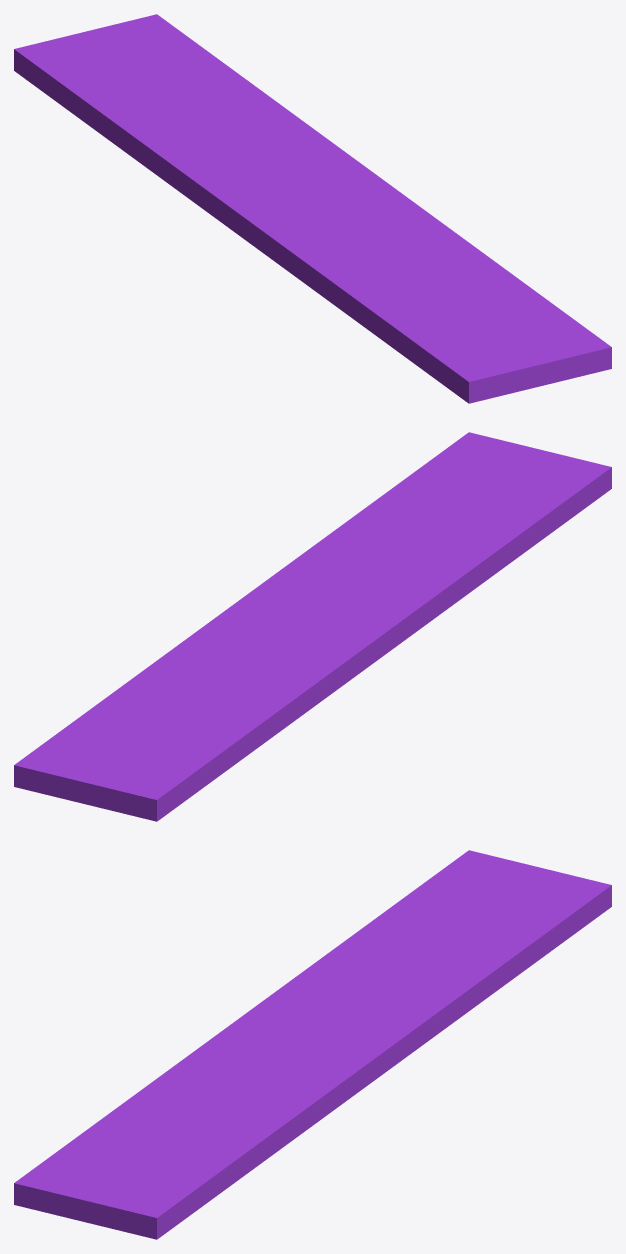
Rendered from StairsStep_61_chunks.fbx.
The picture shows the model from 3 angles, top to bottom: view 1: azimuth 30°, elevation 25°; view 2: azimuth 150°, elevation 25°; view 3: azimuth 330°, elevation 25°; orthographic projection.
Visible parts, largest first — view 1: StairsStep_61_1, StairsStep_61_11, StairsStep_61_9, StairsStep_61_3, StairsStep_61_0, StairsStep_61_4, StairsStep_61_6, StairsStep_61_7, StairsStep_61_12; view 2: StairsStep_61_1, StairsStep_61_11, StairsStep_61_9, StairsStep_61_3, StairsStep_61_0, StairsStep_61_4, StairsStep_61_6, StairsStep_61_7, StairsStep_61_12; view 3: StairsStep_61_1, StairsStep_61_11, StairsStep_61_0, StairsStep_61_3, StairsStep_61_9, StairsStep_61_4, StairsStep_61_7, StairsStep_61_6, StairsStep_61_8, StairsStep_61_12.
Boxes of the visible parts, x1,y1,x2,y2 form: StairsStep_61_1: (14, 14, 249, 168); StairsStep_61_11: (340, 276, 561, 403); StairsStep_61_9: (216, 197, 376, 309); StairsStep_61_3: (146, 134, 345, 218); StairsStep_61_0: (304, 163, 496, 267); StairsStep_61_4: (227, 82, 360, 171); StairsStep_61_6: (451, 278, 611, 383); StairsStep_61_7: (461, 263, 611, 353); StairsStep_61_12: (369, 235, 449, 284); StairsStep_61_1: (14, 679, 290, 821); StairsStep_61_11: (422, 444, 611, 581); StairsStep_61_9: (317, 554, 483, 672); StairsStep_61_3: (225, 617, 359, 723); StairsStep_61_0: (218, 516, 398, 619); StairsStep_61_4: (107, 616, 242, 696); StairsStep_61_6: (402, 434, 518, 521); StairsStep_61_7: (354, 432, 475, 528); StairsStep_61_12: (362, 522, 440, 576); StairsStep_61_1: (337, 850, 611, 980); StairsStep_61_11: (14, 1089, 203, 1224); StairsStep_61_0: (227, 1030, 408, 1133); StairsStep_61_3: (267, 947, 400, 1033); StairsStep_61_9: (143, 998, 308, 1096); StairsStep_61_4: (383, 953, 518, 1052); StairsStep_61_7: (150, 1121, 285, 1224); StairsStep_61_6: (94, 1128, 223, 1239); StairsStep_61_8: (278, 1053, 404, 1150); StairsStep_61_12: (185, 1074, 263, 1127).
Size of the model in its own units: 200 by 28.98 by 1102.
